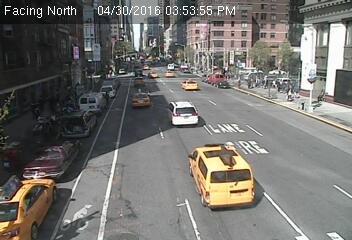neg: (187, 134, 223, 182), (140, 186, 172, 229), (217, 27, 246, 66), (18, 46, 46, 83), (162, 27, 188, 62), (41, 133, 67, 168), (280, 183, 305, 217), (109, 151, 133, 184), (124, 64, 148, 96), (299, 83, 322, 112), (87, 78, 109, 108), (67, 26, 89, 55), (194, 69, 215, 98), (272, 44, 292, 71), (277, 136, 297, 161)
